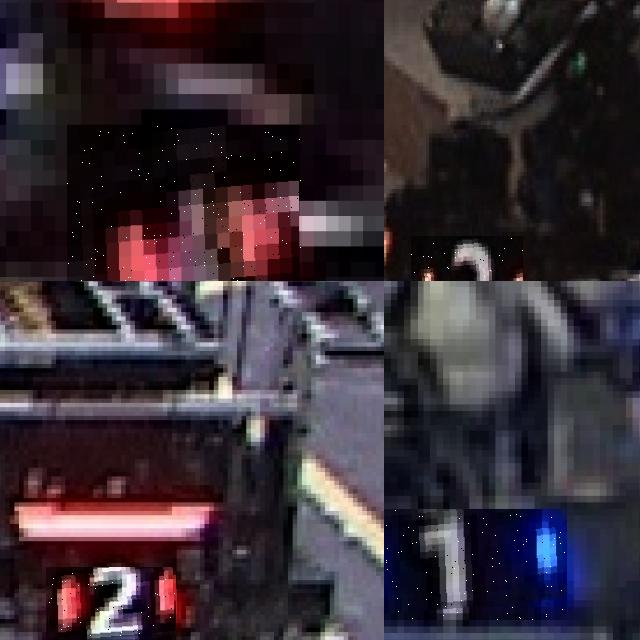B1: (384, 509, 567, 620)
R2: (46, 567, 176, 640)
R3: (410, 236, 523, 281)
R4: (67, 124, 301, 281)
